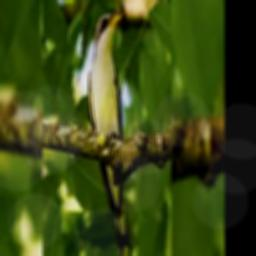Cuckoo: (88, 12, 133, 256)
